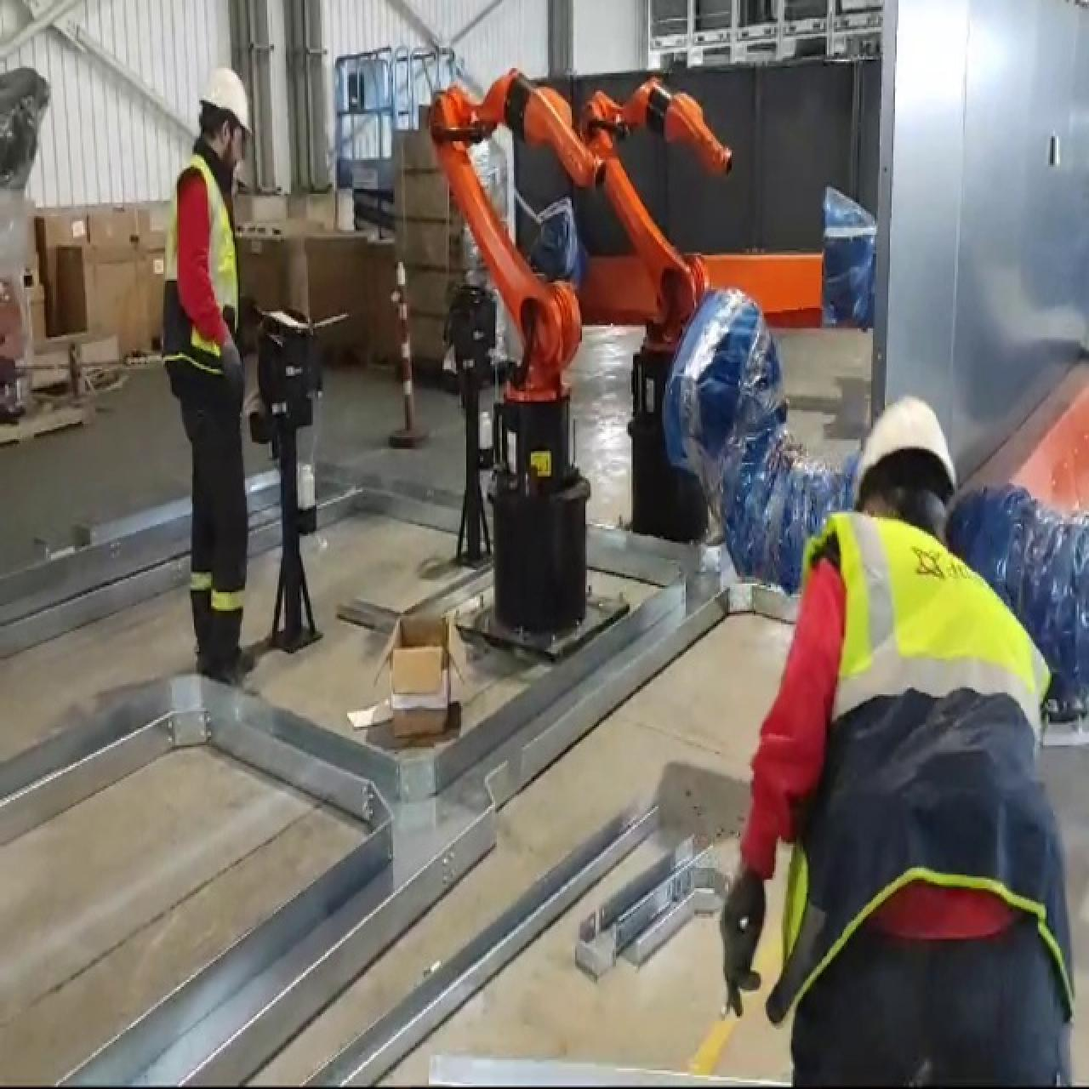Person: (701, 376, 1089, 1089), (145, 50, 281, 698)
Safety_Vest: (785, 513, 1062, 1022), (151, 155, 257, 383)
